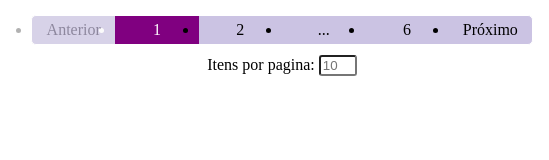
BookTable › shows errorMsg if items per page is bigger than 50
Type "60" into the number field with test id "pagination-limit-input" at (338, 66), box [319,55,357,76]
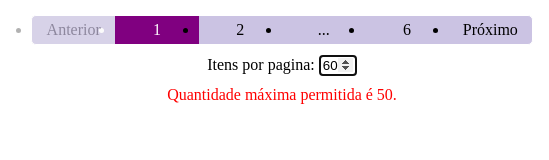
Now the text with test id "pagination-errorMsg" reads "Quantidade máxima permitida é 50.", box [167,86,397,104]
